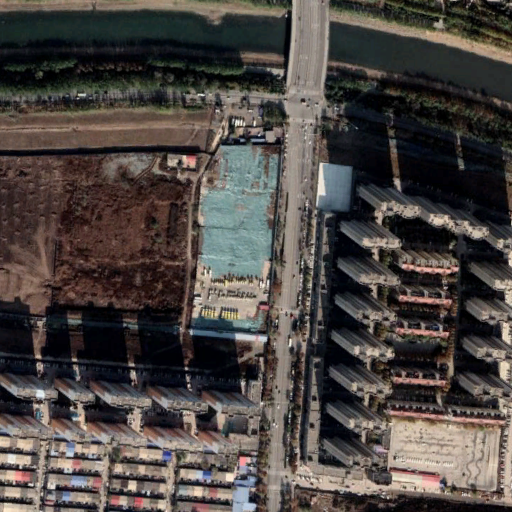cw: (197, 145, 276, 279)
